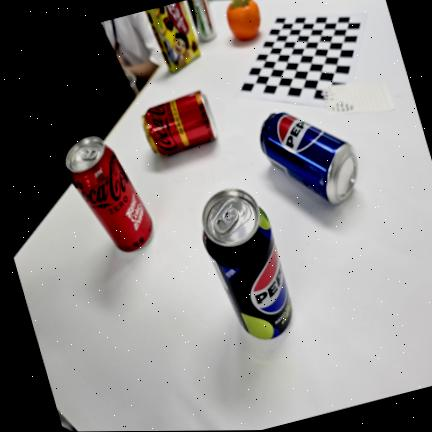can_coke_decaf: (142, 90, 216, 154)
can_coke_zero: (67, 137, 153, 251)
can_pepsi: (260, 112, 357, 203)
can_pepsi_zero: (201, 188, 292, 338)
